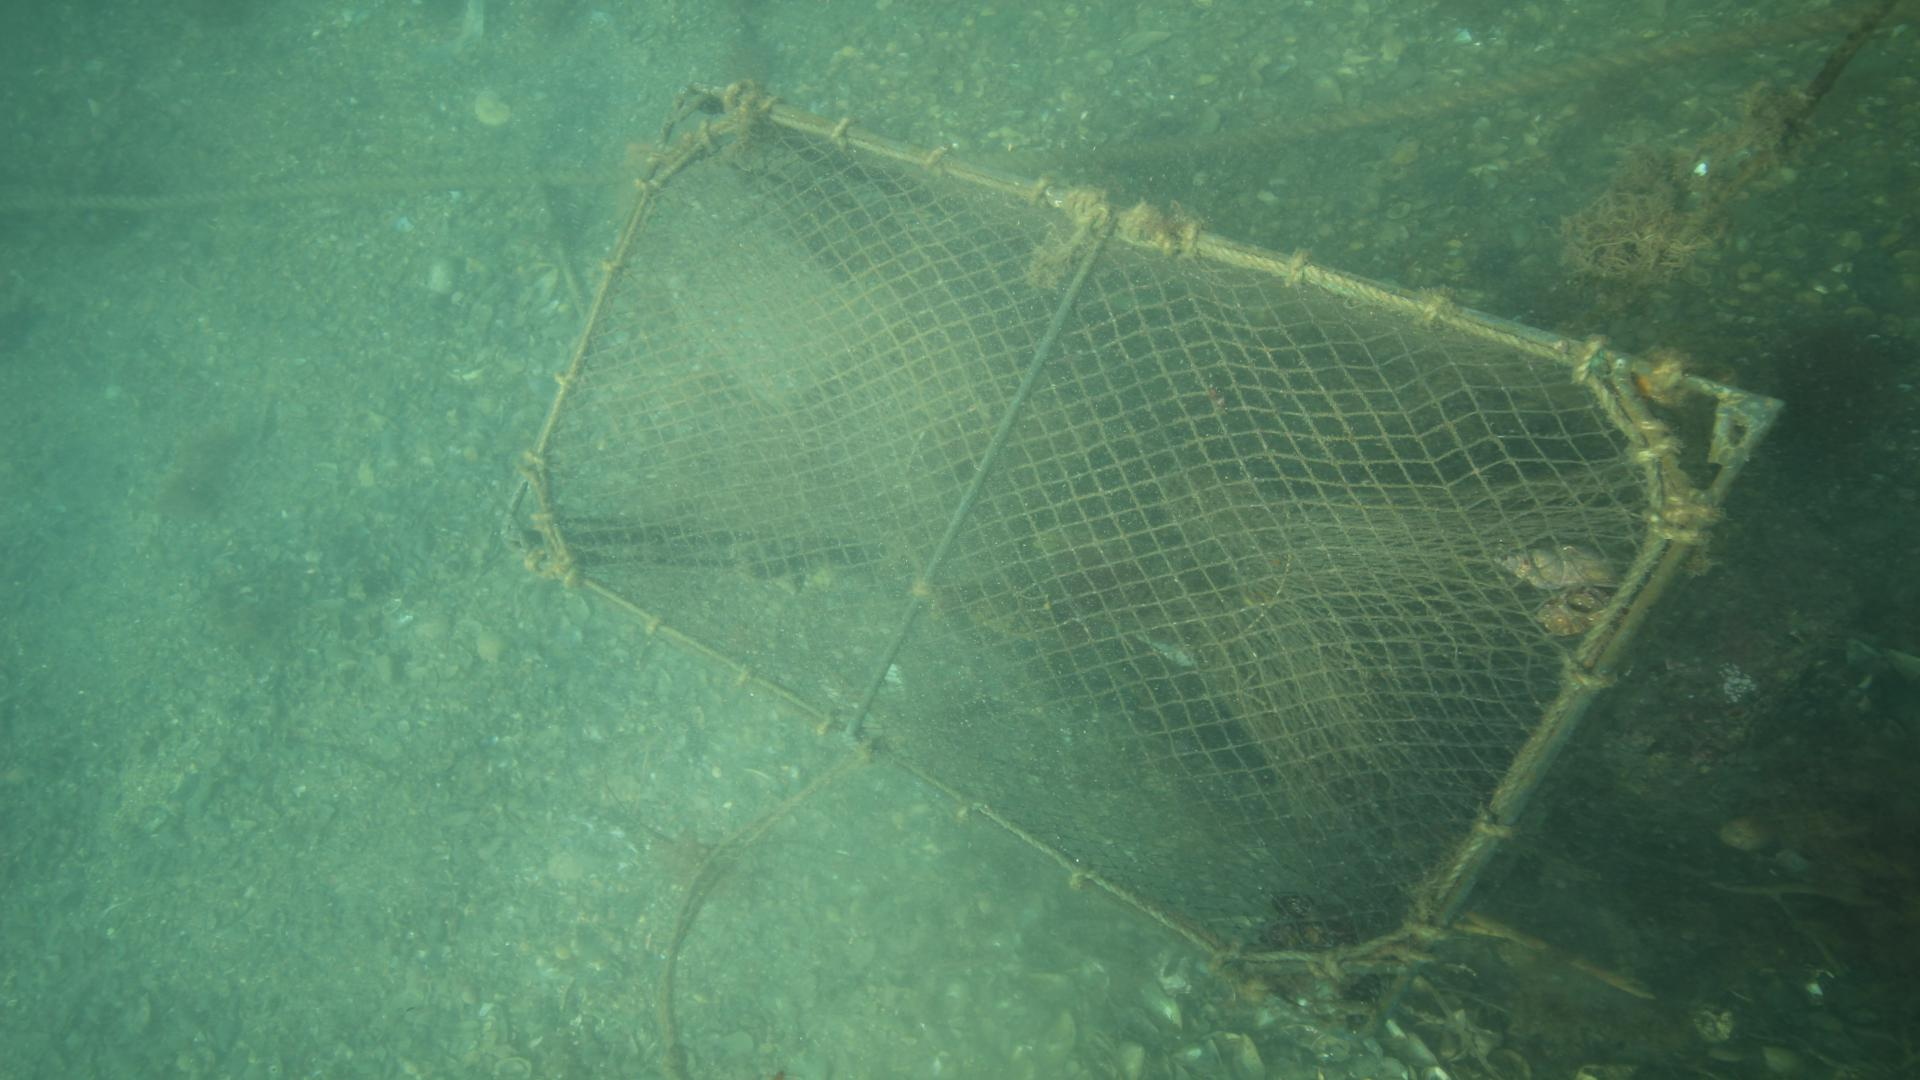bundle of ropes: (651, 746, 874, 1080)
rectangular fish trap: (497, 76, 1788, 1044)
rope: (963, 0, 1920, 189), (0, 164, 655, 210)
